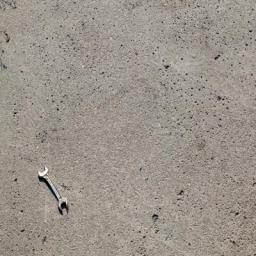FOD: (38, 165, 75, 216)
